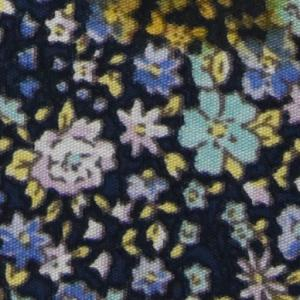Oil Stain: (92, 1, 295, 68)
